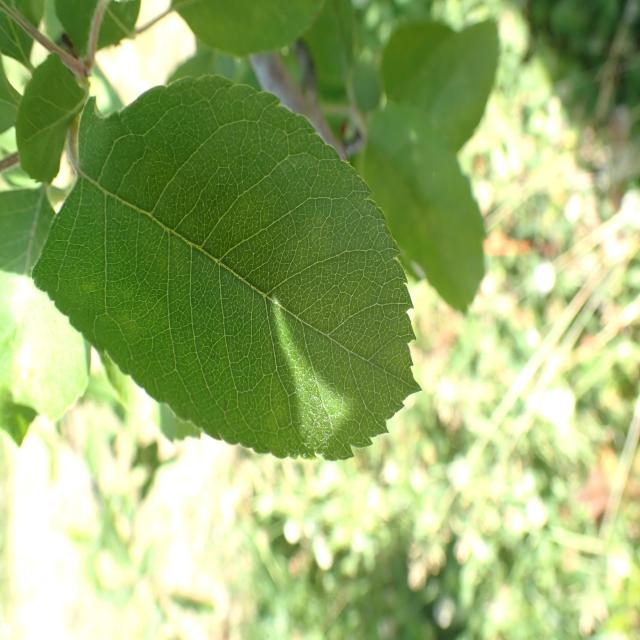healthy: (31, 74, 422, 462), (361, 17, 500, 314), (0, 186, 89, 448), (176, 0, 326, 59)
